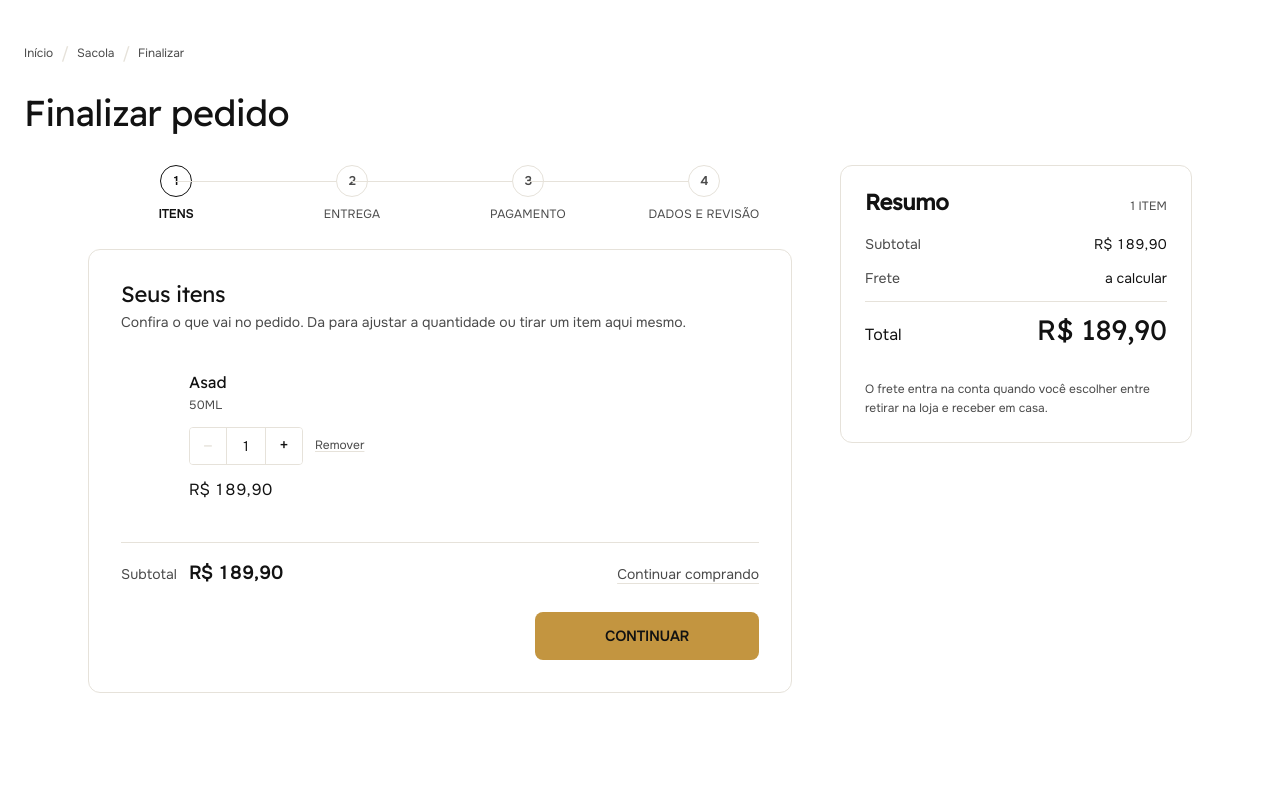
Test: trocar a cidade muda a taxa e o total na hora
This screenshot has width=1280, height=800.
Expected: the heading "Seus itens" is shown, 121,280 -> 225,308
Click the button named "Continuar" at (647, 636), box 535,612 -> 759,660
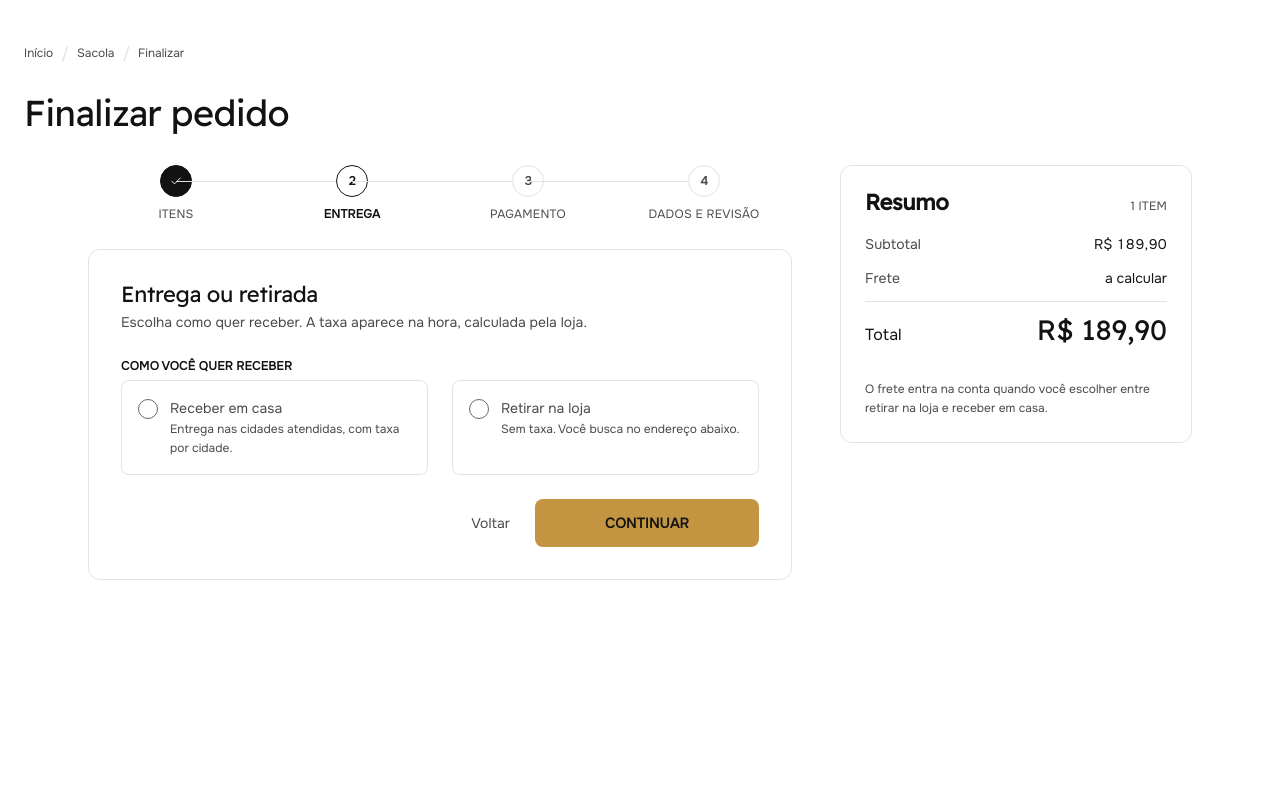
Click the radio button labelled "Receber em casa" at (274, 428), box 121,380 -> 428,475
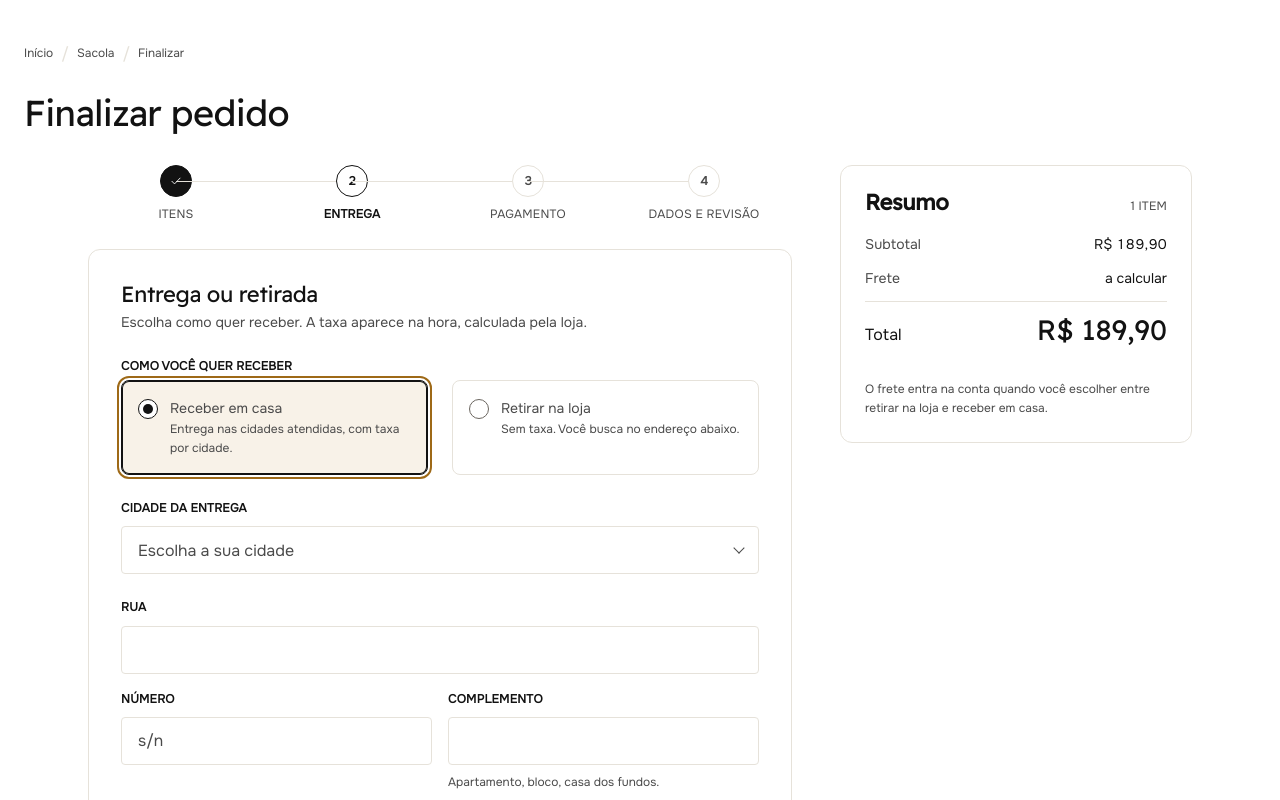
Select "Juazeiro do Norte — CE" in the dropdown labelled "Cidade da entrega" at (440, 550), box 121,526 -> 759,574
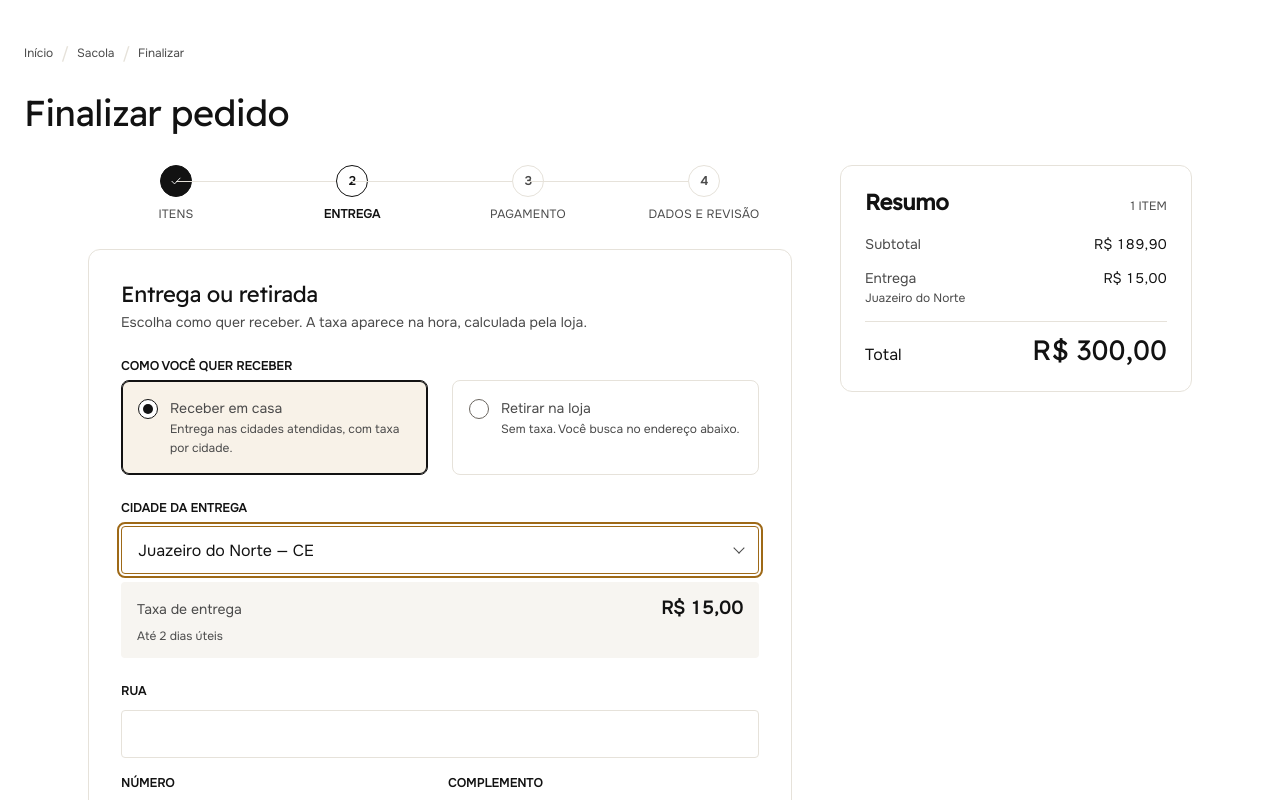
Result: the text "R$ 15,00" below "Subtotal" is shown at 1103,269 -> 1167,287
Select "Crato — CE" in the dropdown labelled "Cidade da entrega" at (440, 550), box 121,526 -> 759,574
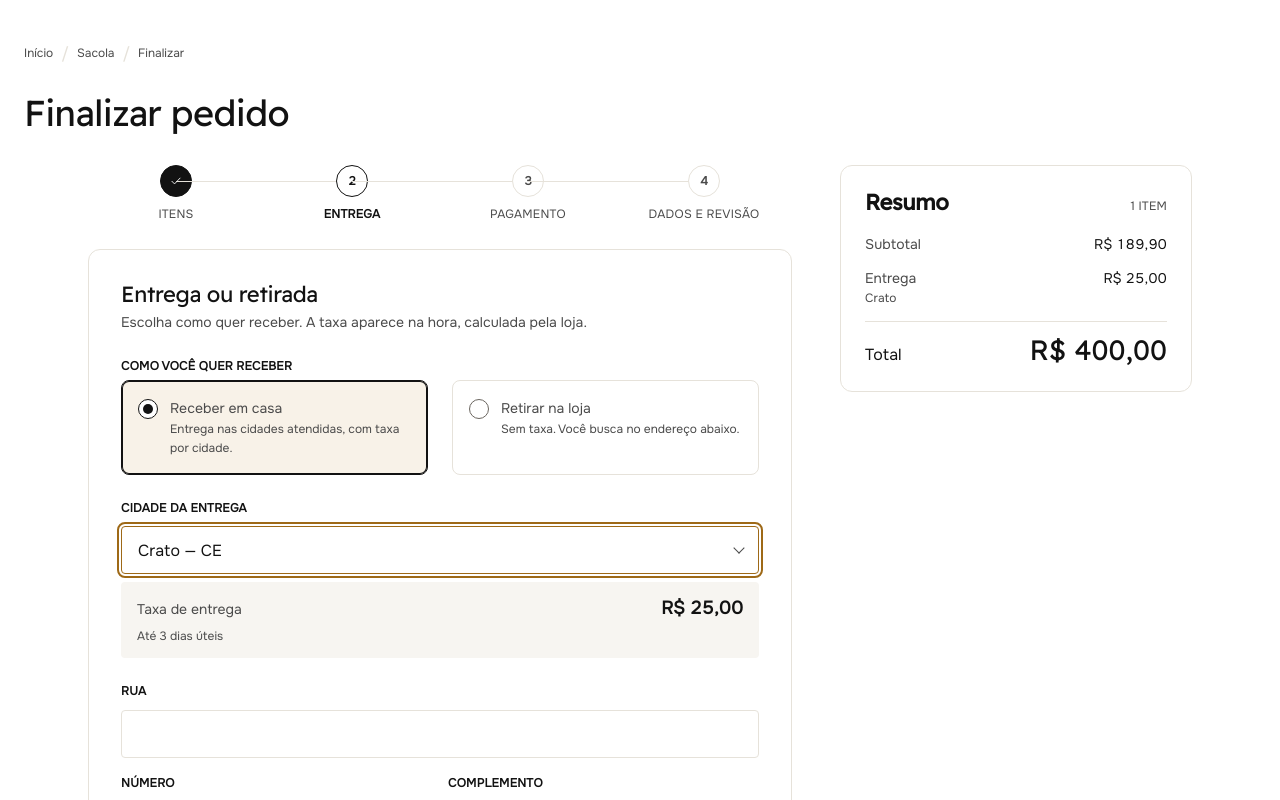
Result: the text "R$ 25,00" below "Subtotal" is shown at 1103,269 -> 1167,287
